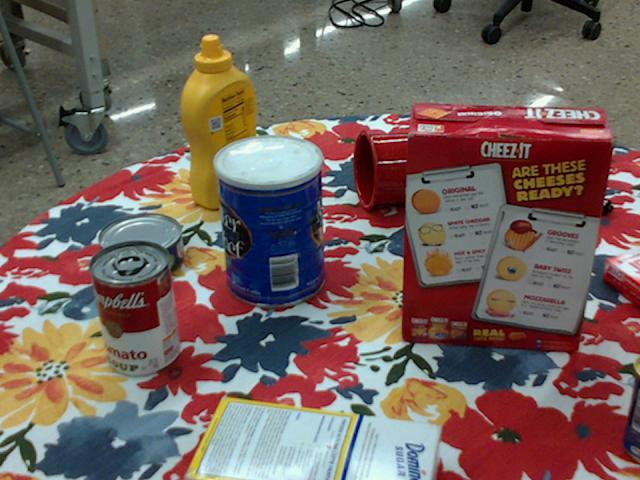cracker_box: (401, 104, 615, 354)
gelatin_box: (602, 249, 639, 307)
large_marker: (515, 171, 614, 214)
master_chef_can: (214, 134, 324, 308)
mug: (353, 131, 442, 213)
mustard_bottle: (183, 36, 265, 210)
potted_meat_can: (625, 357, 639, 461)
sugar_box: (182, 398, 442, 479)
tomato_soup_can: (90, 239, 180, 375)
tuna_fish_can: (100, 212, 185, 279)
